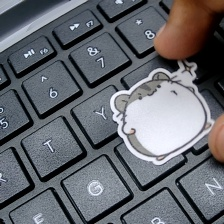mouse: (112, 55, 214, 168)
